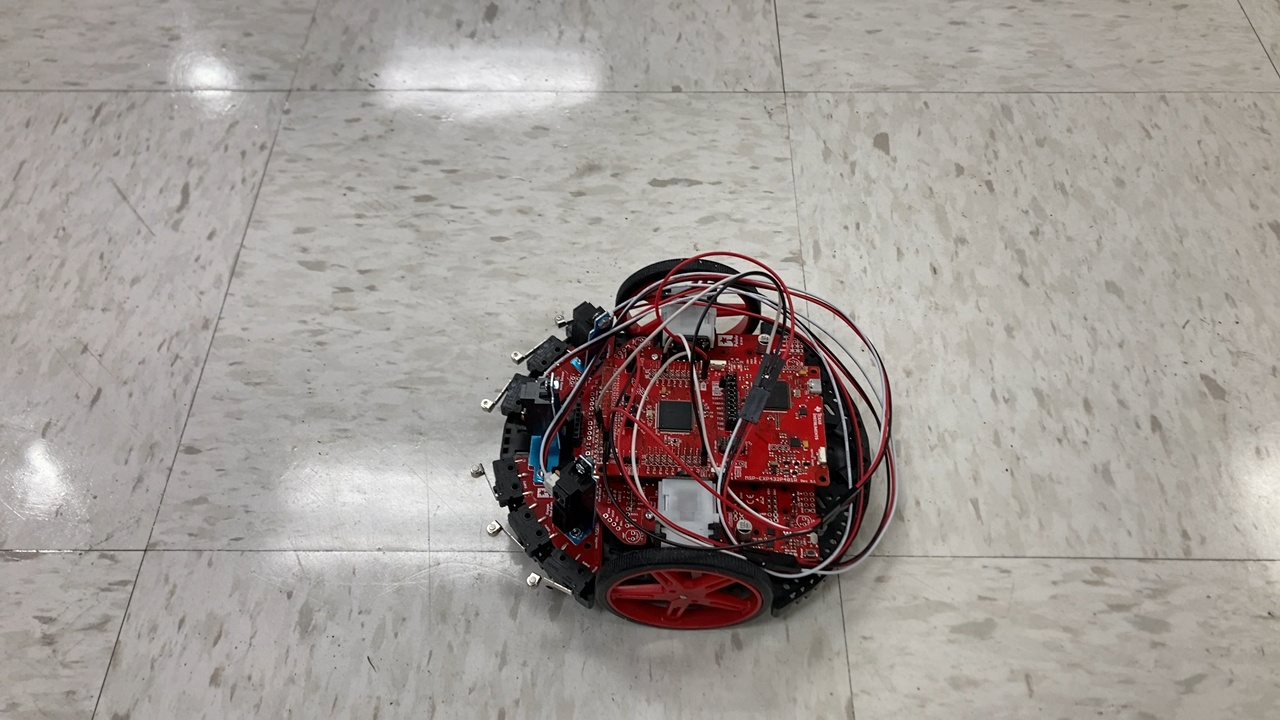robot: (450, 237, 914, 641)
